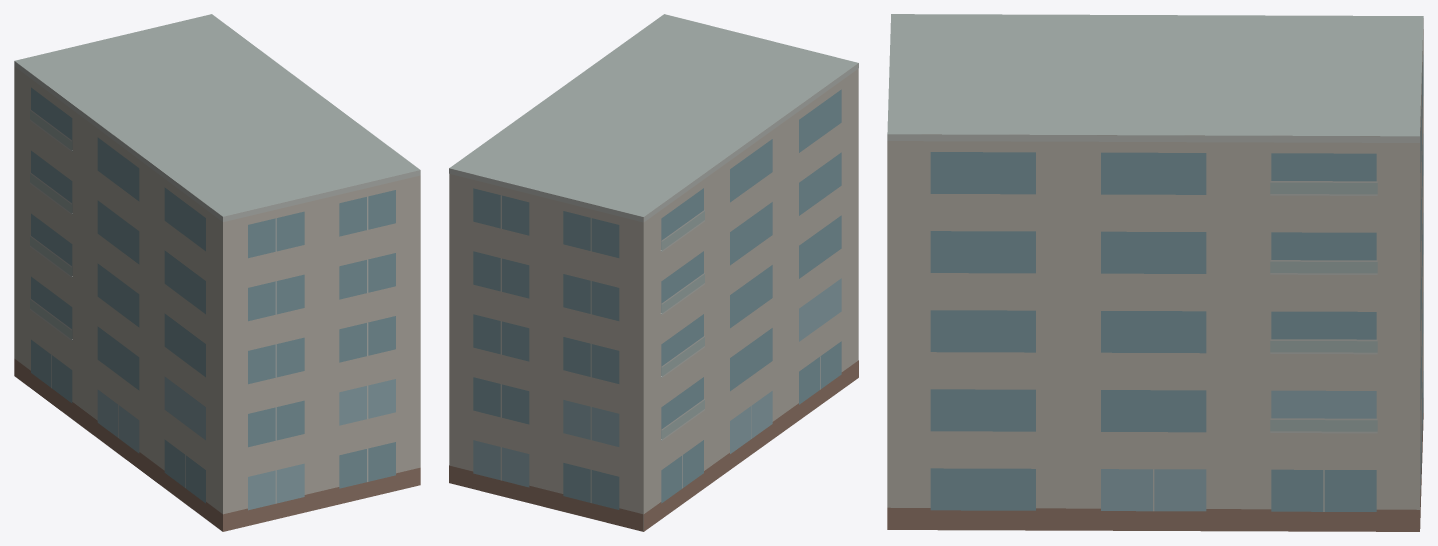
The model's file is survey-upis-32545871.glb.
The picture shows the model from 3 angles, left to right: view 1: azimuth 30°, elevation 25°; view 2: azimuth 150°, elevation 25°; view 3: azimuth 270°, elevation 25°; orthographic projection. The views are drawn at different scales.
Visible parts, largest first — view 1: survey-upis-32545871.tmp; view 2: survey-upis-32545871.tmp; view 3: survey-upis-32545871.tmp.
Boxes of the visible parts, x1,y1,x2,y2 form: survey-upis-32545871.tmp: (14, 14, 420, 531); survey-upis-32545871.tmp: (449, 14, 858, 531); survey-upis-32545871.tmp: (887, 14, 1423, 531).
Size of the model in its own units: 9.48 by 14.26 by 17.53.
